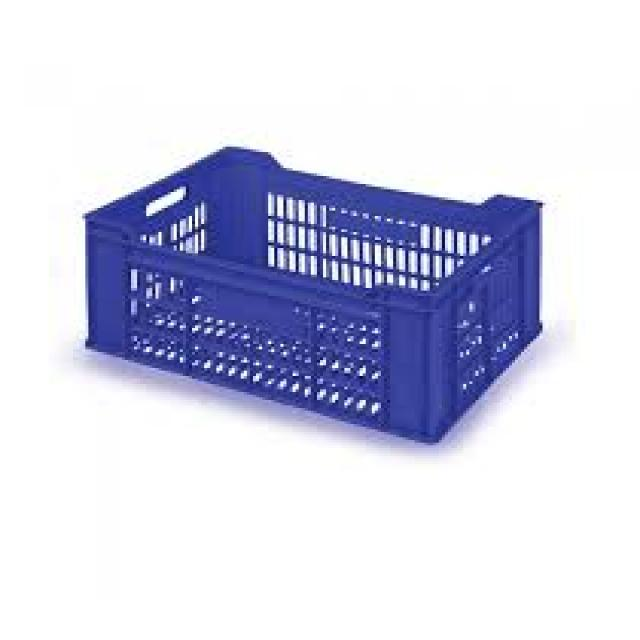basket: (56, 123, 565, 461)
